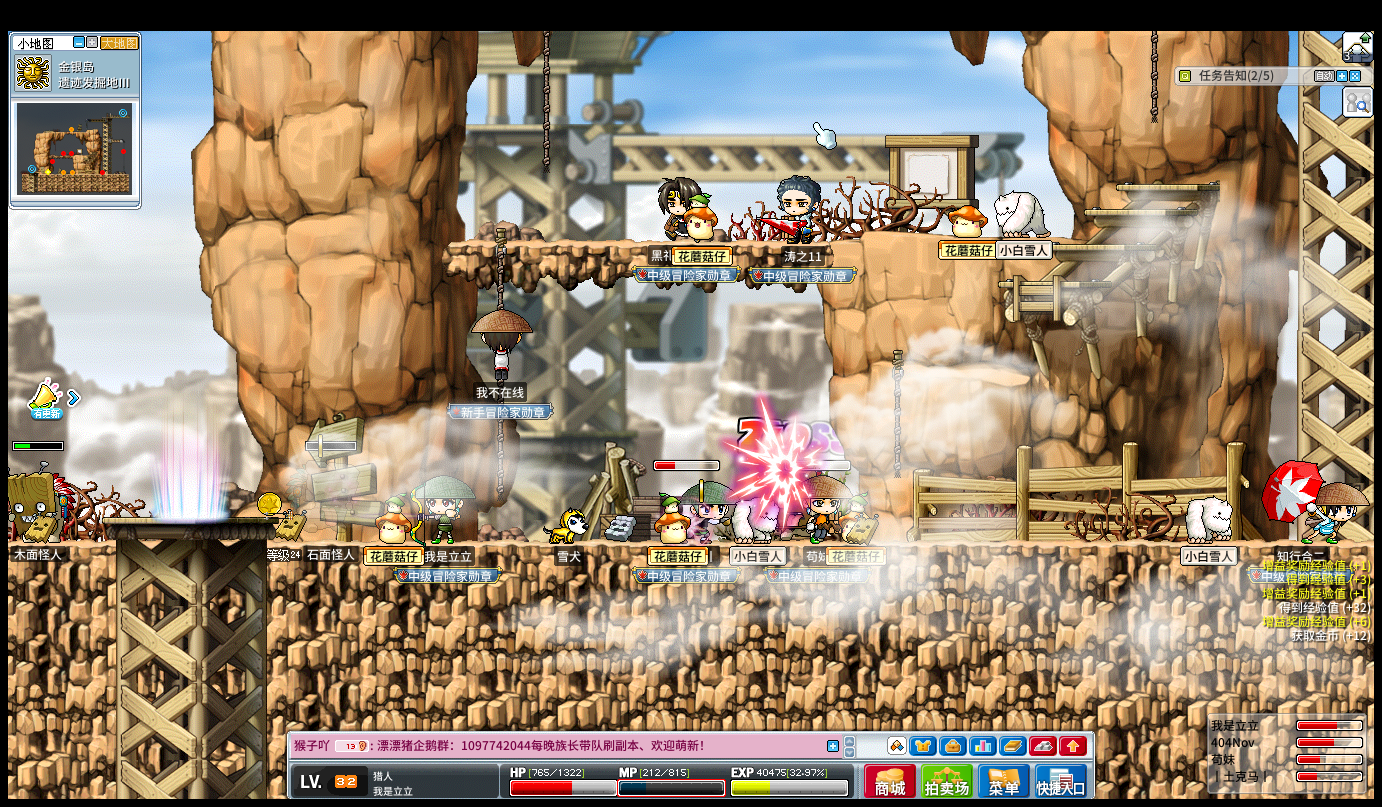floor: (268, 537, 1374, 550), (447, 237, 829, 249), (914, 365, 1032, 388), (100, 515, 280, 525), (932, 234, 1091, 242), (9, 539, 115, 550), (995, 281, 1111, 291), (1079, 207, 1191, 216), (1052, 243, 1159, 252), (1115, 184, 1220, 192)
monster: (6, 466, 74, 541)
rope: (889, 352, 902, 479), (542, 30, 550, 174), (492, 227, 506, 308), (1148, 30, 1157, 124)
